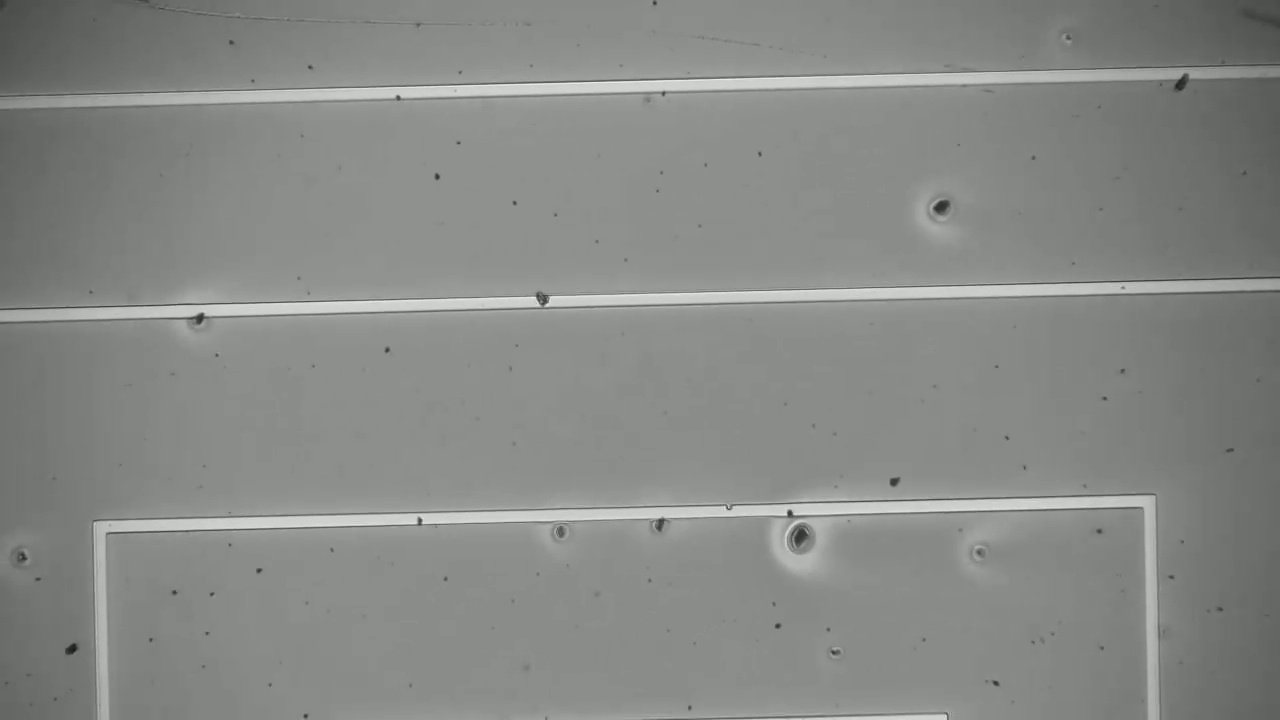edge_bite: (718, 495, 739, 525)
stains_enbedded: (181, 295, 215, 336), (1167, 58, 1197, 94), (529, 285, 555, 317), (780, 495, 800, 521), (412, 505, 426, 531)
